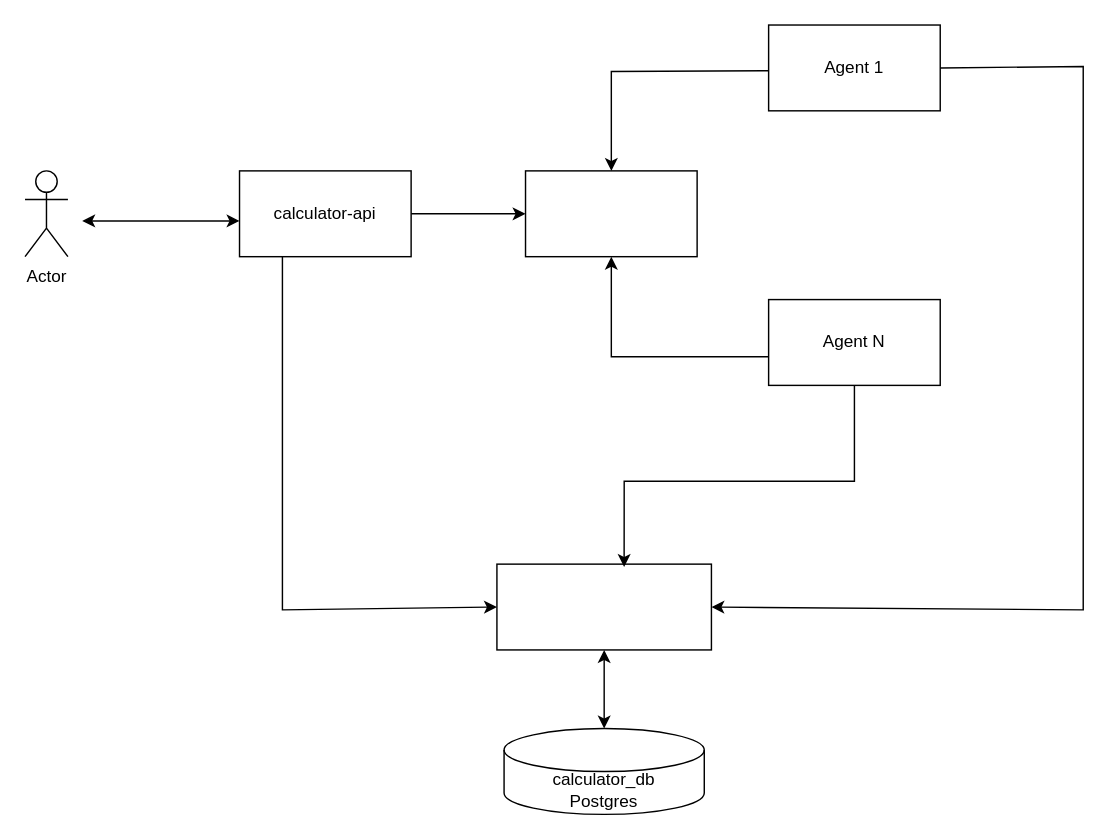
The diagram is 1120 pixels wide and 839 high, and some of its shapes have lost their labels. Each missing label, with the box of its shape:
dbagent: (495, 563, 711, 650)
message-broker(RabbitMQ): (524, 169, 697, 257)
